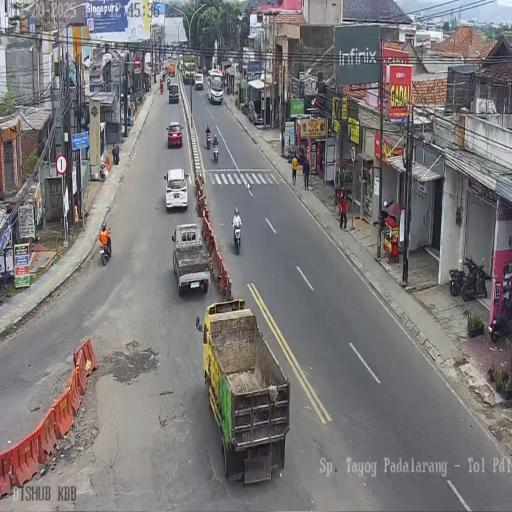car: (169, 224, 208, 296), (164, 168, 189, 210), (166, 122, 183, 148), (167, 79, 179, 104), (194, 72, 204, 90), (168, 61, 175, 76)
motorcycle: (448, 254, 490, 301), (489, 270, 512, 340), (100, 234, 112, 266), (232, 220, 242, 254), (284, 143, 295, 164), (212, 140, 219, 162), (206, 130, 212, 150), (241, 100, 248, 116), (160, 81, 163, 94)
truck: (202, 300, 291, 484), (207, 68, 224, 104), (182, 55, 196, 84), (144, 52, 152, 74), (179, 54, 183, 68)
